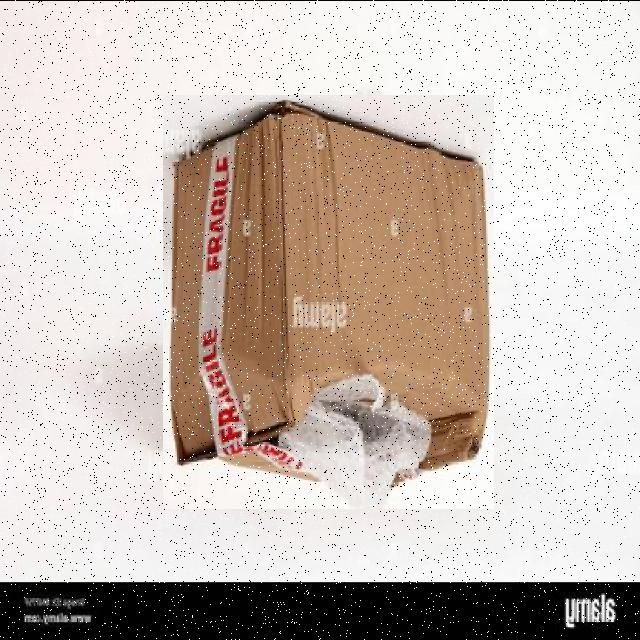defect: (163, 94, 494, 508)
